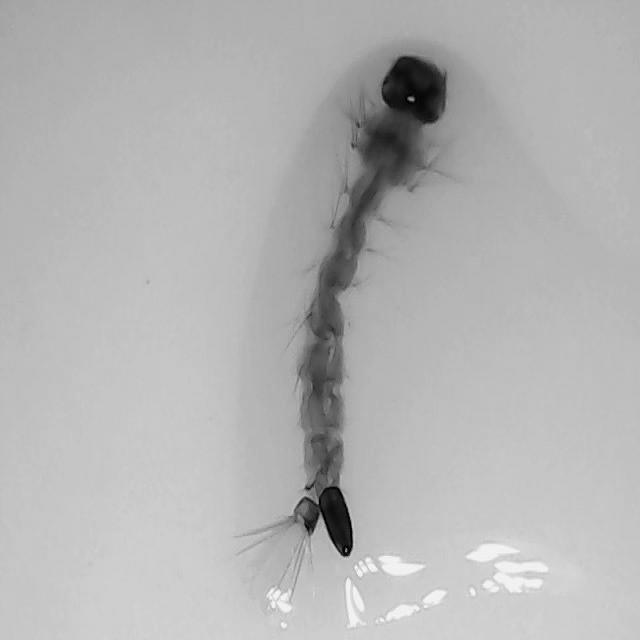larvas: (280, 67, 447, 550)
